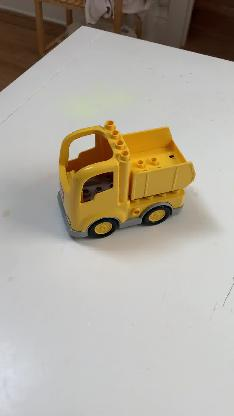yellow dump truck: (58, 119, 194, 241)
